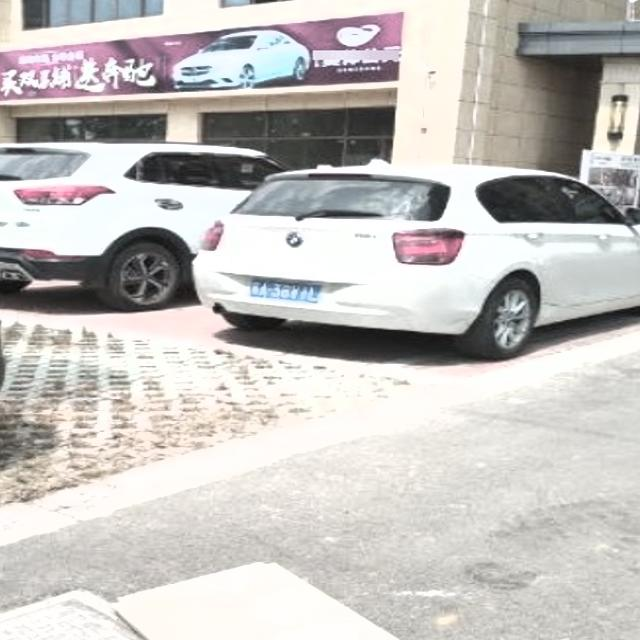broke: (0, 582, 528, 640)
